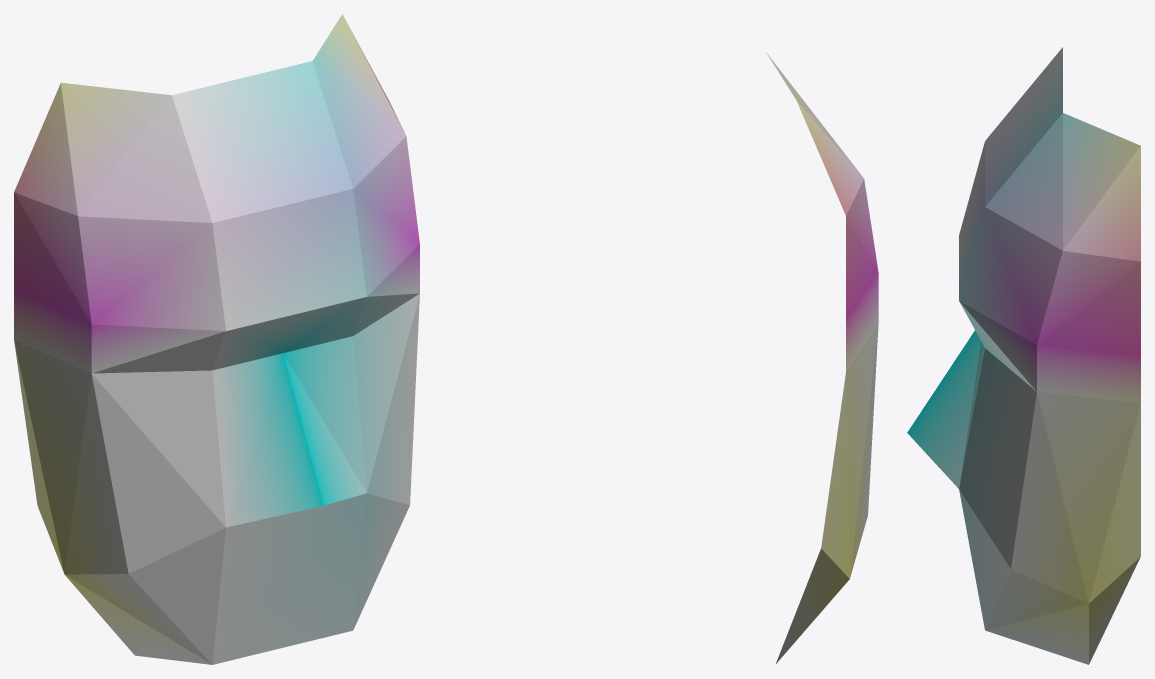
3 views of the same model, side by side, from view 1: azimuth 30°, elevation 25°; view 2: azimuth 150°, elevation 25°; view 3: azimuth 270°, elevation 25° (orthographic). The views are drawn at different scales.
Parts seen in each view (by area): view 1: model_13F9; view 2: model_13F9; view 3: model_13F9.
Part boxes in pixels (left/top/right/bottom): model_13F9: left=14, top=14, right=419, bottom=664; model_13F9: left=766, top=52, right=878, bottom=663; model_13F9: left=907, top=47, right=1140, bottom=664.
Size of the model in its own units: 16 by 23 by 9.
